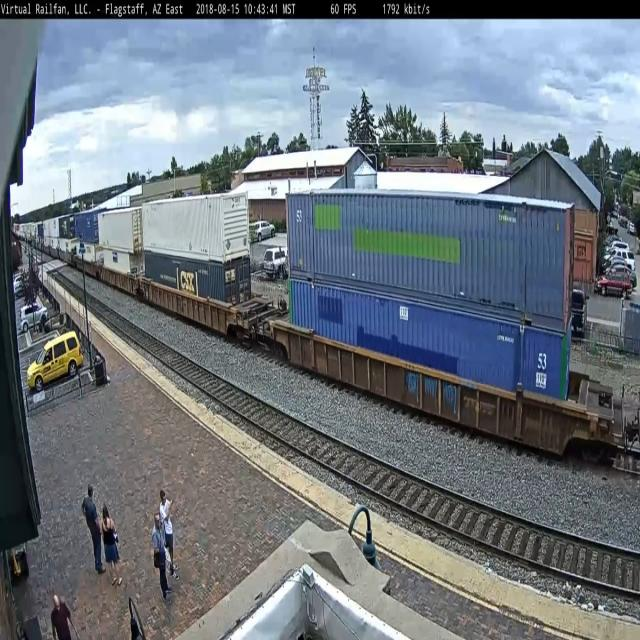container: (283, 180, 576, 334), (287, 273, 578, 410), (139, 187, 251, 267), (144, 246, 254, 312)
flatcar: (273, 313, 609, 479), (140, 272, 263, 352)
